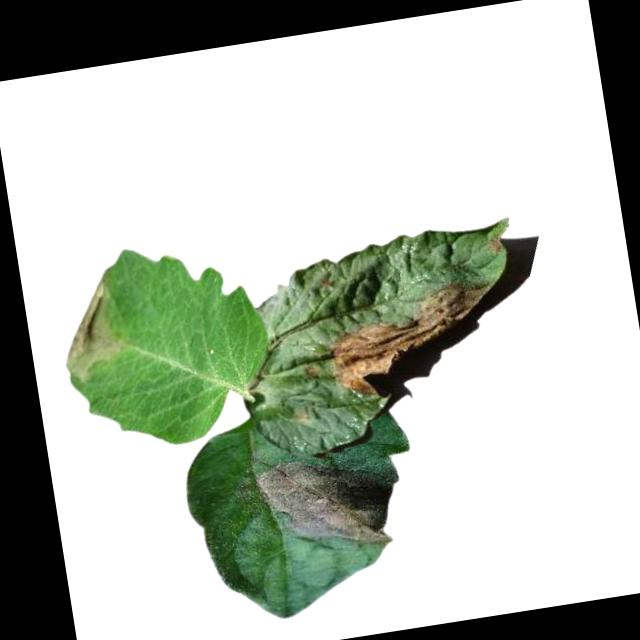Late_blight: (320, 275, 503, 405), (246, 444, 407, 563), (49, 277, 131, 385), (485, 238, 503, 256)
